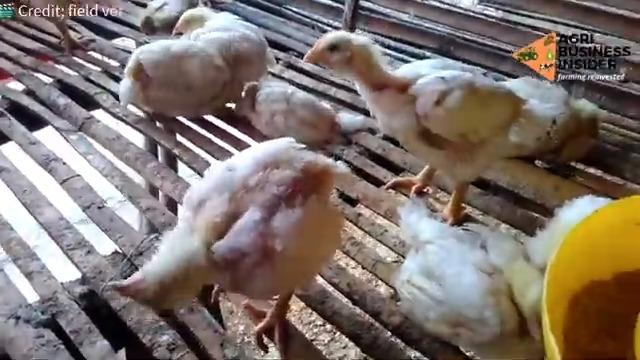AbNormal: (102, 136, 352, 336)
